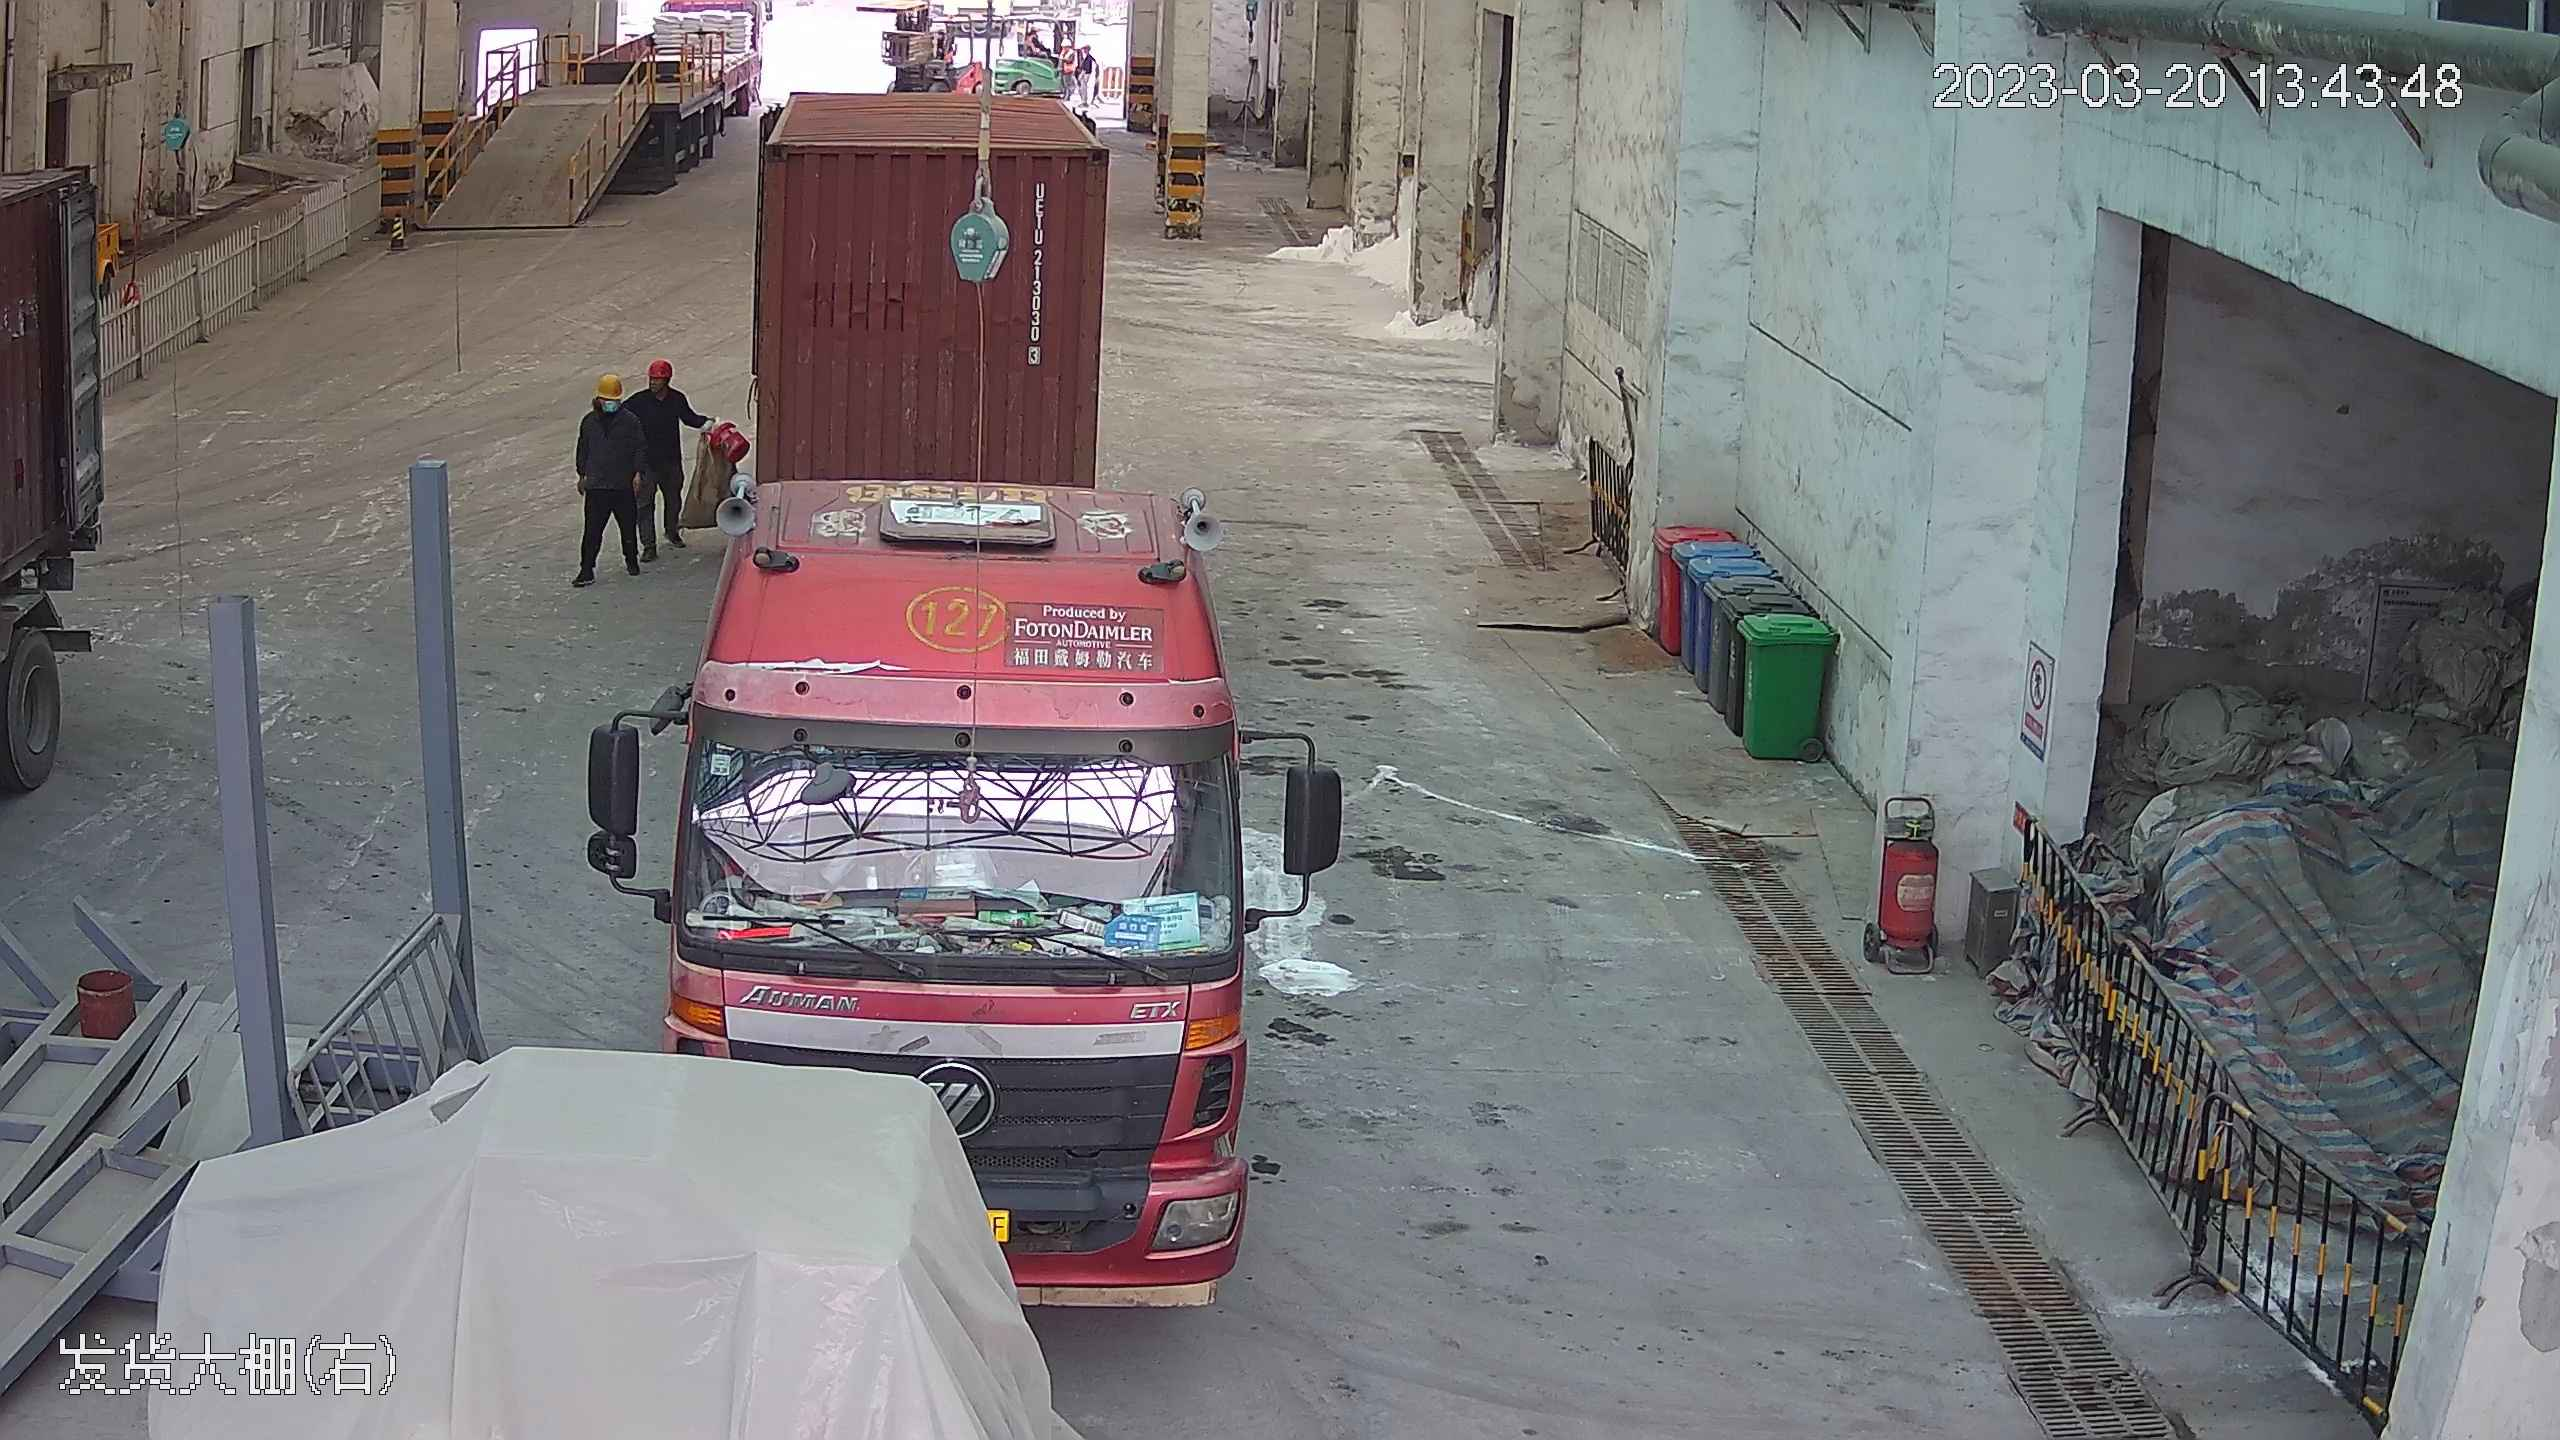head: (576, 371, 635, 437), (633, 352, 694, 409)
helmet: (591, 370, 626, 403), (647, 352, 677, 374)
people: (570, 366, 642, 588), (630, 352, 701, 561)
truck: (650, 29, 1268, 1307)
